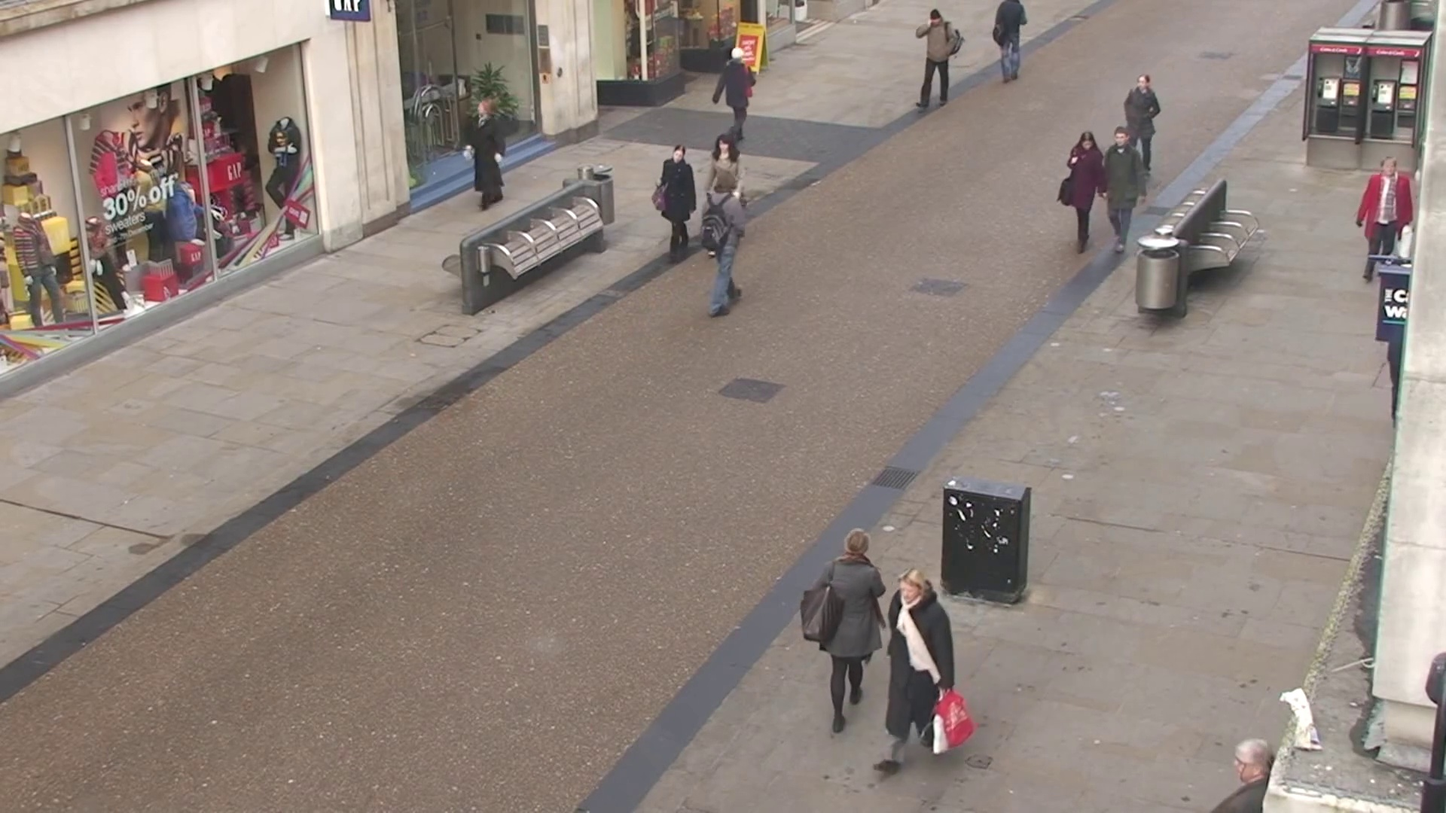person: (876, 569, 958, 769), (810, 531, 890, 734), (702, 175, 752, 317), (1057, 132, 1109, 257), (1356, 156, 1408, 272), (1100, 127, 1148, 251), (462, 94, 508, 211), (651, 145, 699, 256), (1210, 736, 1276, 813), (264, 117, 306, 236), (914, 8, 962, 110), (715, 36, 758, 148), (1123, 72, 1162, 169), (992, 0, 1027, 85)
